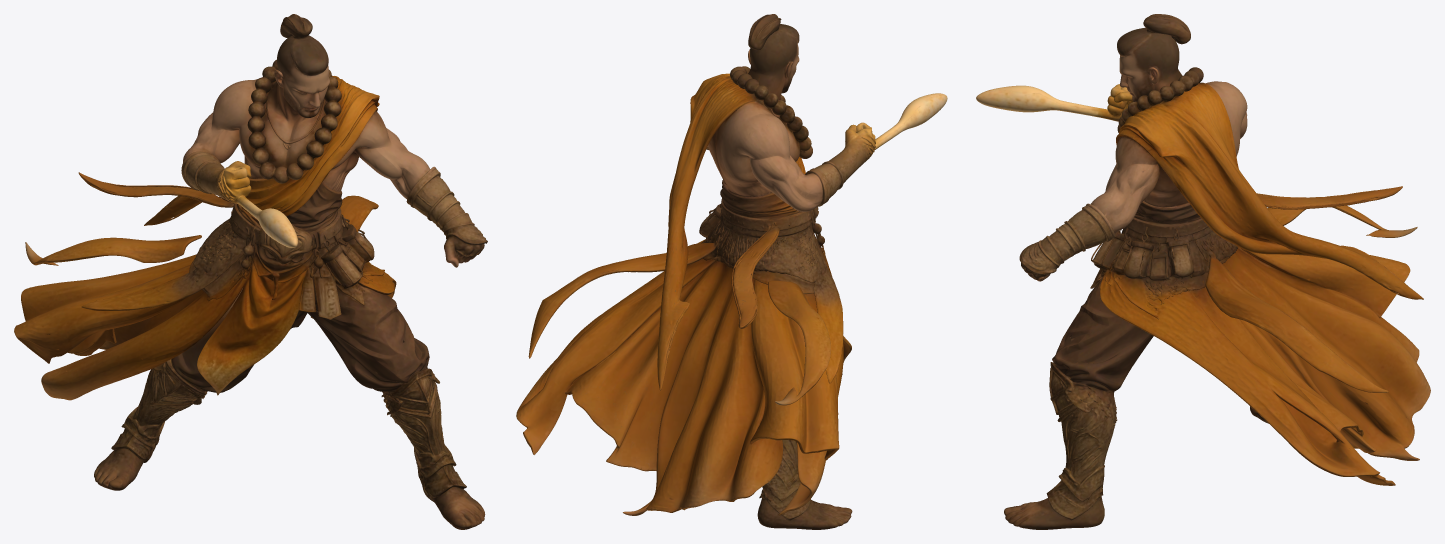
The model's file is monk_full_male_01.glb.
3 views of the same model, side by side, from view 1: azimuth 30°, elevation 25°; view 2: azimuth 150°, elevation 25°; view 3: azimuth 270°, elevation 25° (orthographic). The views are drawn at different scales.
Visible parts, largest first — view 1: material; view 2: material; view 3: material.
Boxes of the visible parts, x1,y1,x2,y2 form: material: (14,14,487,529); material: (516,14,947,529); material: (976,14,1430,529).
Bounding box in the file's own units: 0.6967 × 0.8996 × 0.8051.
Materials: 1 (1 with a texture image).
